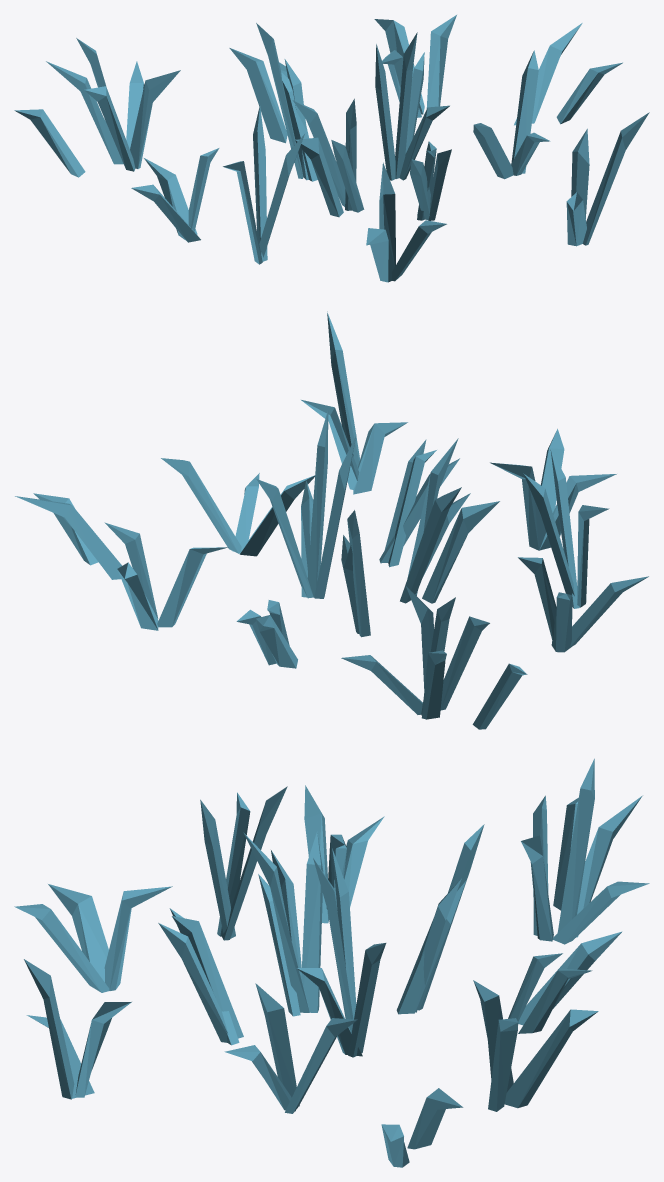
The model's file is SM_Env_Grass_03.glb.
3 views of the same model, one above another, from view 1: azimuth 30°, elevation 25°; view 2: azimuth 150°, elevation 25°; view 3: azimuth 270°, elevation 25° (orthographic). The views are drawn at different scales.
Visible parts, largest first — view 1: SM_Env_Grass_03; view 2: SM_Env_Grass_03; view 3: SM_Env_Grass_03.
Boxes of the visible parts, x1,y1,x2,y2 form: SM_Env_Grass_03: (14, 15, 649, 282); SM_Env_Grass_03: (15, 311, 648, 729); SM_Env_Grass_03: (14, 758, 649, 1167).
Size of the model in its own units: 0.0433 by 0.0123 by 0.036.
